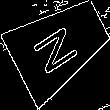N_NE: (32, 16, 87, 76)
